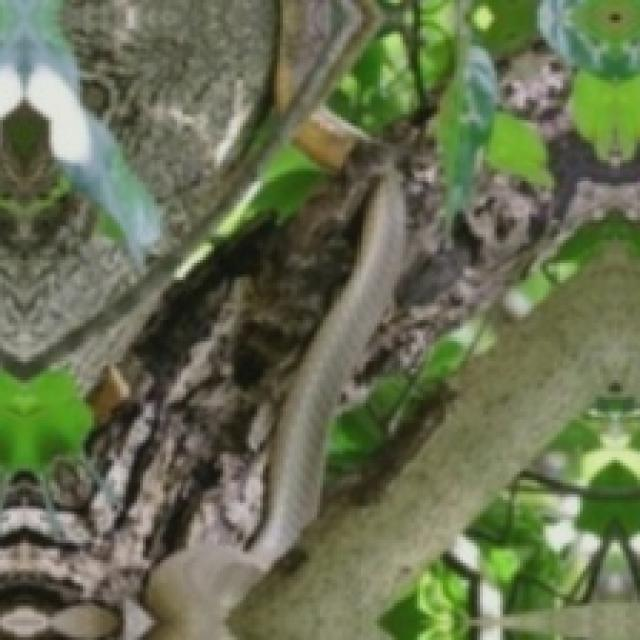king cobra: (146, 169, 403, 637)
